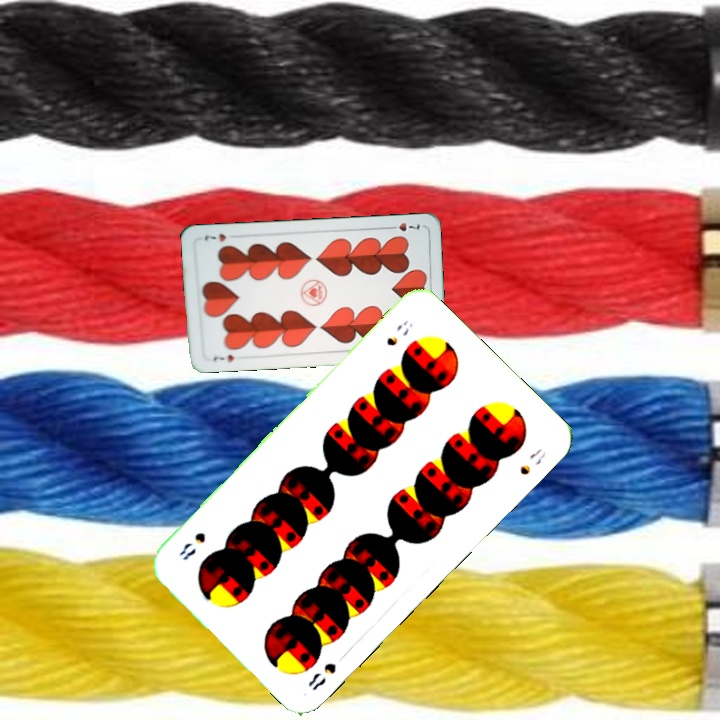H7: (384, 218, 422, 234), (209, 351, 236, 365)
S8: (303, 658, 339, 693), (382, 316, 416, 349)
